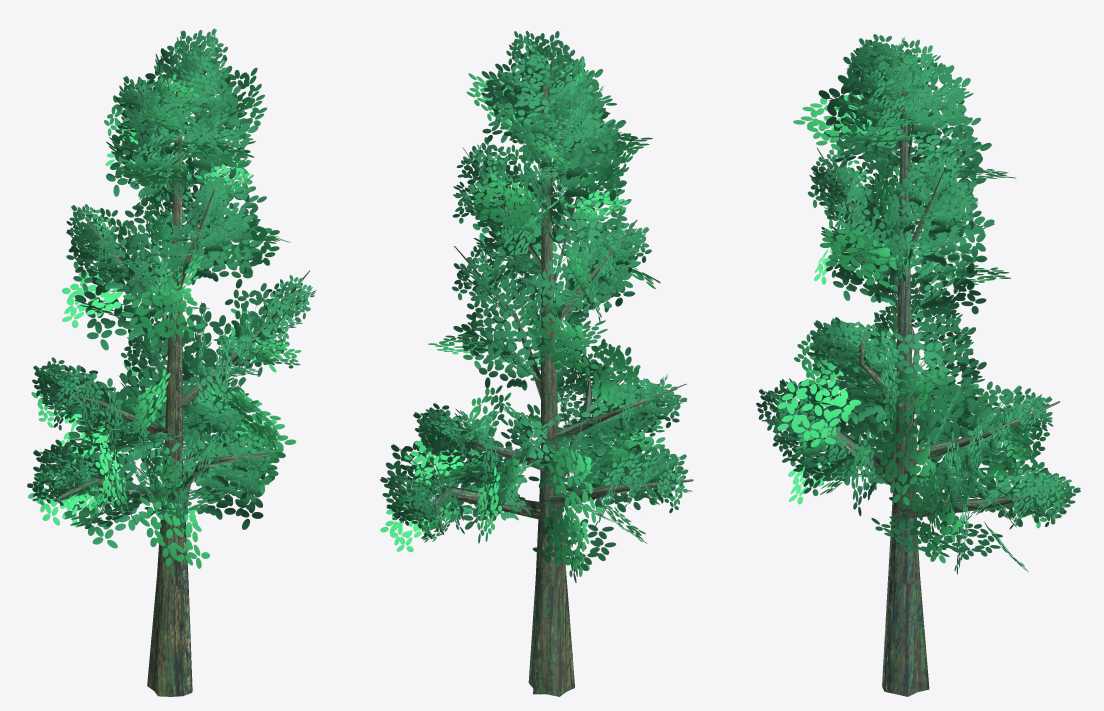
The model's file is tree3.glb.
3 renders of one model, left to right at view 1: azimuth 30°, elevation 25°; view 2: azimuth 150°, elevation 25°; view 3: azimuth 270°, elevation 25°, orthographic. The views are drawn at different scales.
Visible parts, largest first — view 1: long2_jabami_mesh; view 2: long2_jabami_mesh; view 3: long2_jabami_mesh.
Boxes of the visible parts, box(x1,y1,x2,y2) form: long2_jabami_mesh: box(27, 28, 316, 696); long2_jabami_mesh: box(380, 31, 693, 696); long2_jabami_mesh: box(756, 34, 1080, 696).
Bounding box in the file's own units: 5.08 × 11.07 × 5.19.
Materials: 3 (3 with a texture image).
